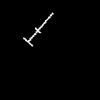double_crochet: (23, 13, 52, 45)
